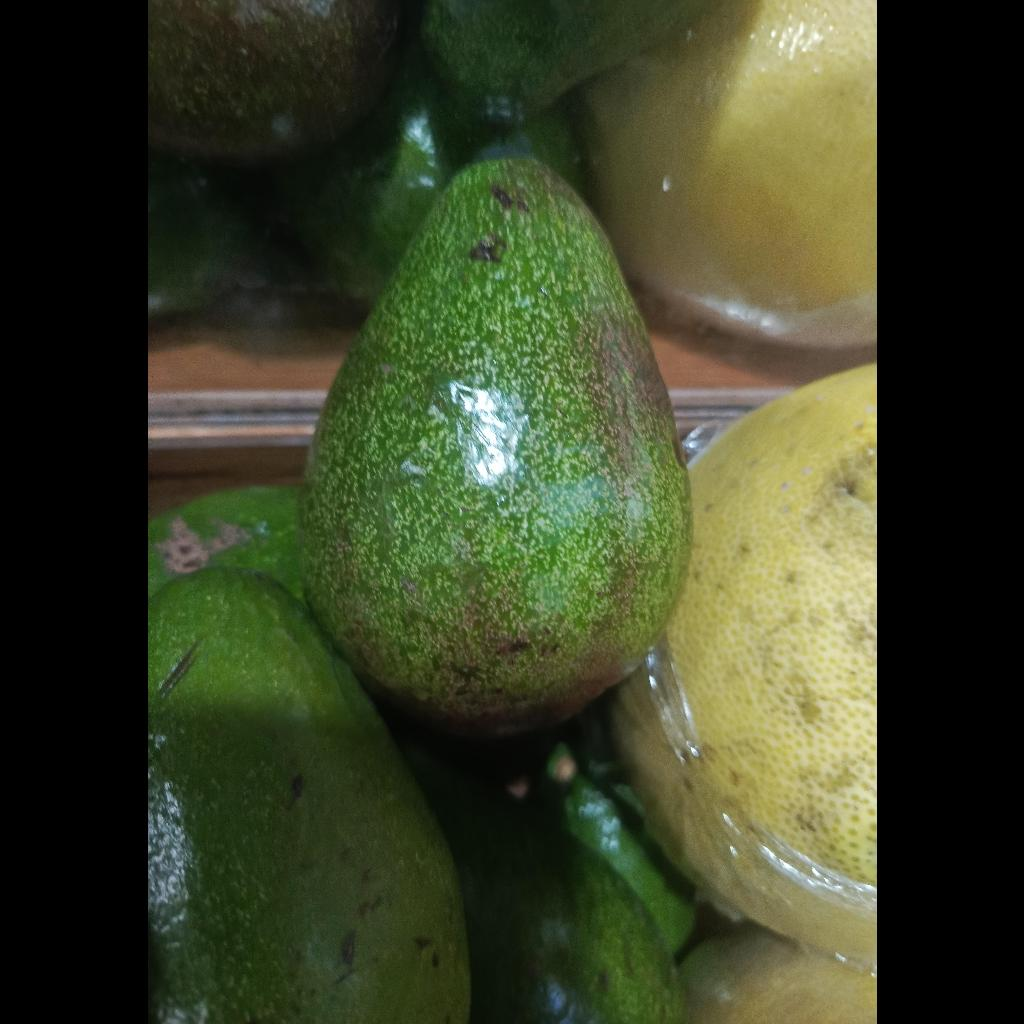healthy: (299, 162, 691, 732), (147, 567, 469, 1024)
